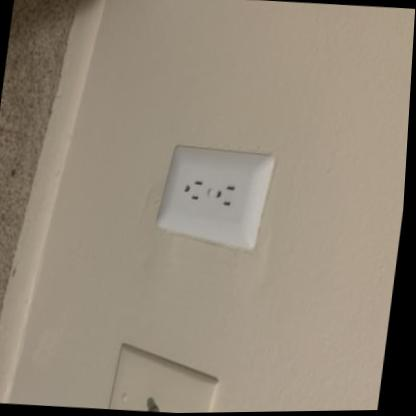OUTLET: (156, 146, 277, 238)
